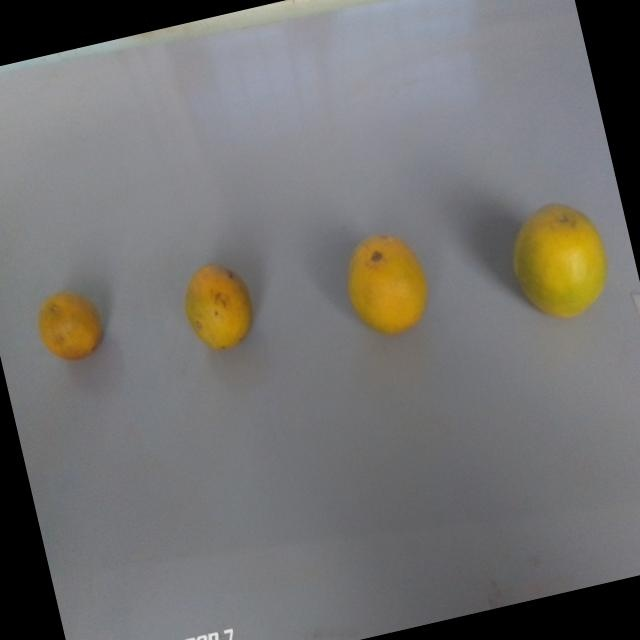agrume: (495, 192, 617, 329), (337, 225, 433, 344), (172, 247, 264, 362), (23, 275, 110, 375)
